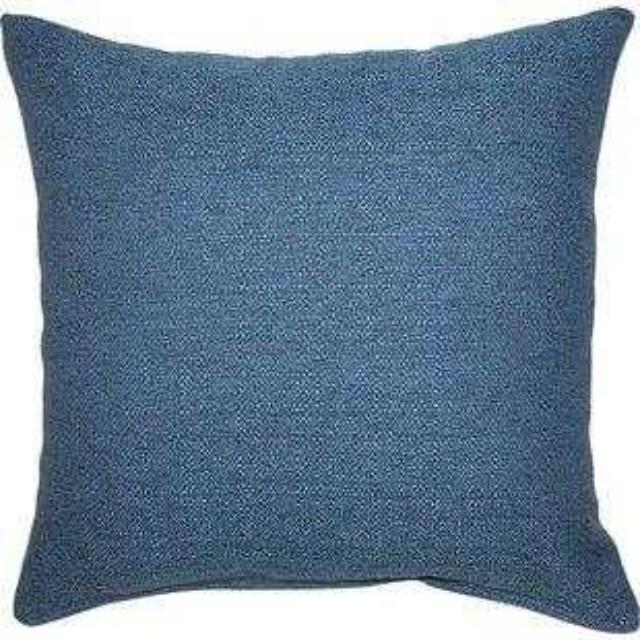pillow: (0, 4, 638, 634)
